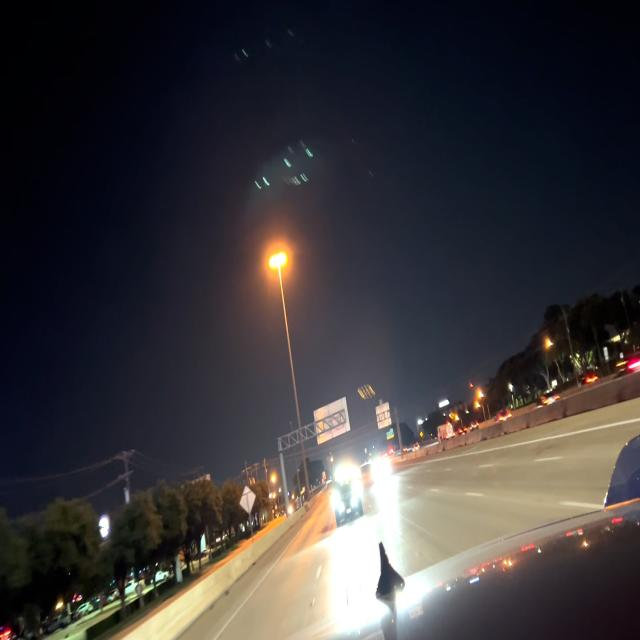back-of-sign: (314, 396, 350, 446)
